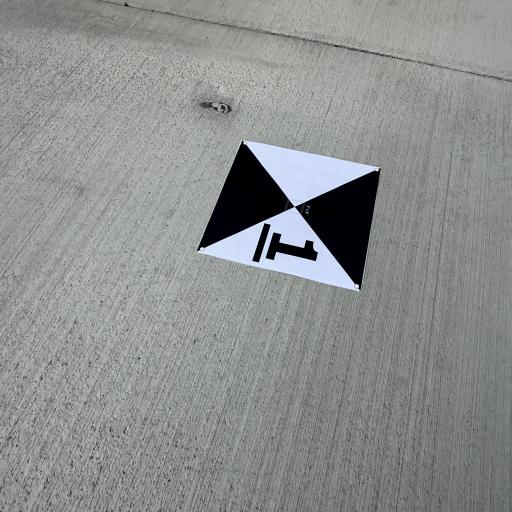target1: (190, 134, 394, 308)
